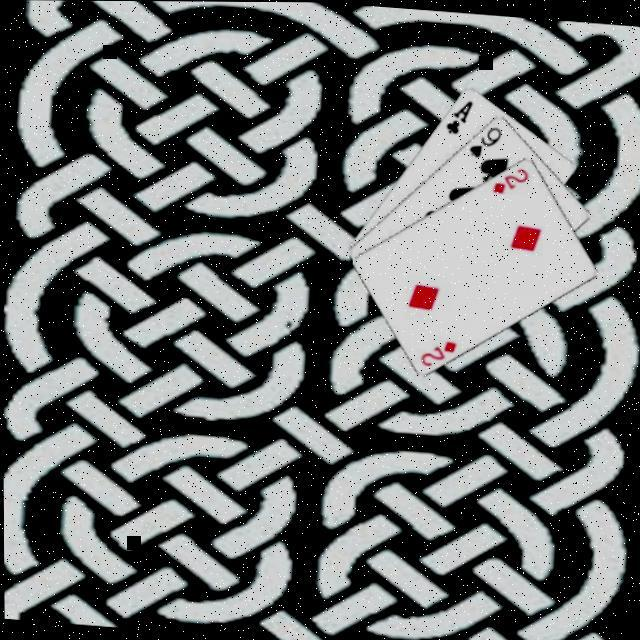2D: (418, 333, 460, 369), (489, 162, 532, 196)
9S: (465, 120, 505, 160)
AC: (442, 94, 476, 136)
